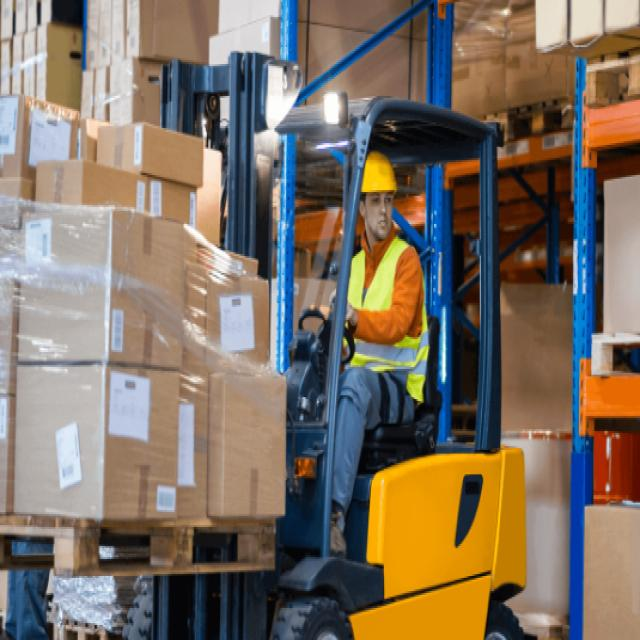hard_hat: (356, 145, 399, 245)
shoes: (290, 489, 352, 558)
vest: (333, 234, 433, 409)
